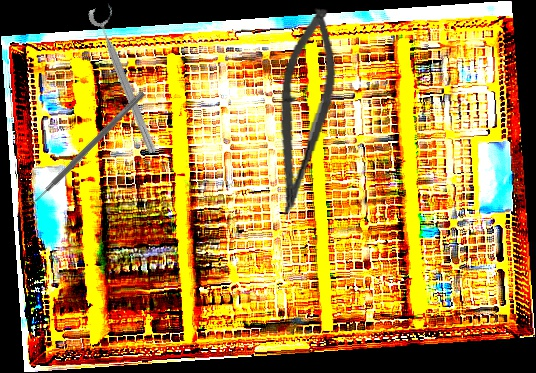Fixation Ring: (86, 2, 169, 156)
Micro Scissor: (267, 5, 344, 219)
Spatula Surgical: (23, 85, 146, 211)
